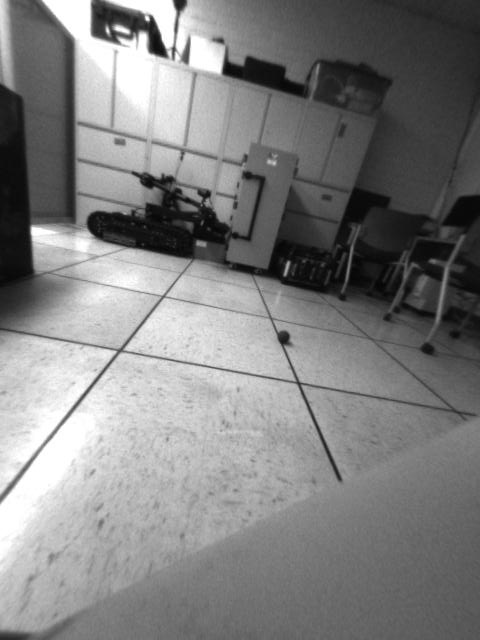dogtoy: (274, 324, 296, 346)
